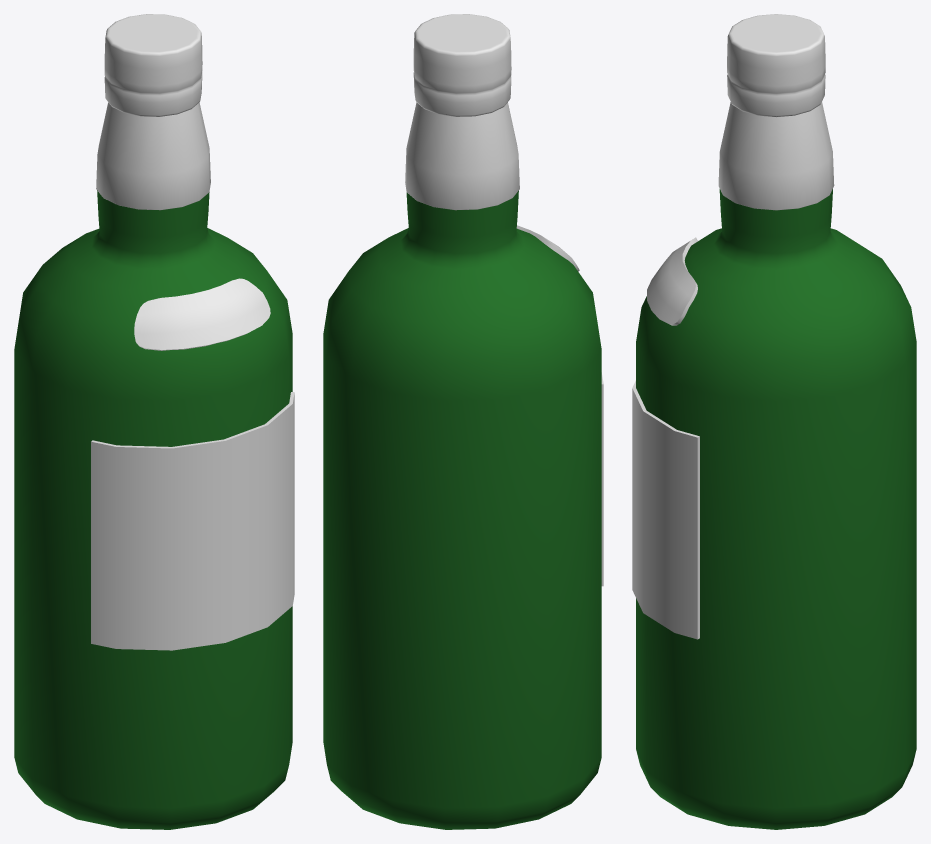
The model's file is MESH_Bottle_E.fbx.
3 renders of one model, left to right at view 1: azimuth 30°, elevation 25°; view 2: azimuth 150°, elevation 25°; view 3: azimuth 270°, elevation 25°, orthographic.
Parts seen in each view (by area): view 1: Bottle_E; view 2: Bottle_E; view 3: Bottle_E.
Part boxes in pixels (<box>): Bottle_E: <box>14,14,294,829</box>; Bottle_E: <box>323,14,603,829</box>; Bottle_E: <box>632,14,916,829</box>.
Size of the model in its own units: 18.29 by 53.75 by 18.53.
